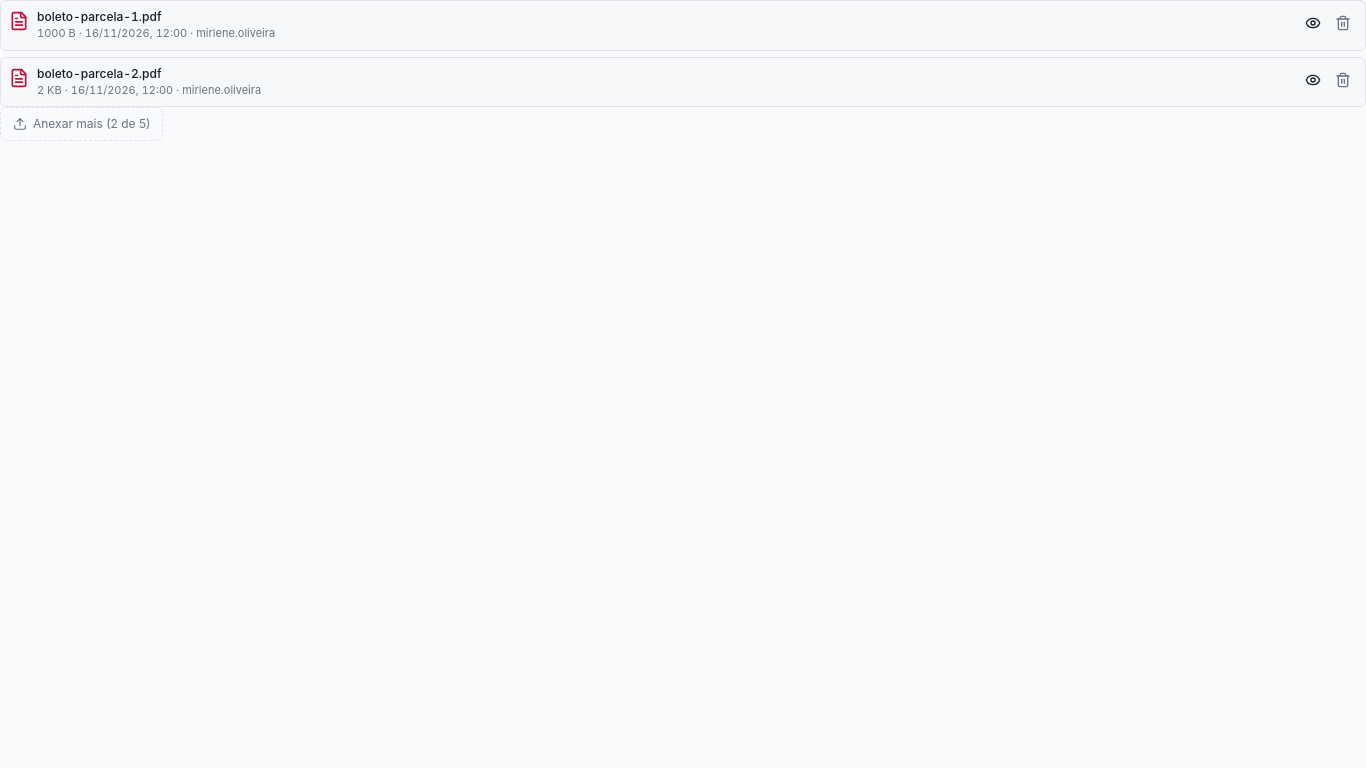
Test: anexos — vários arquivos por etapa (NFE-19) › remover pede confirmação e remove só aquele arquivo
The width and height of the screenshot is (1366, 768).
Later steps or results of the test are not shown.
Click the button named "Remover boleto-parcela-2.pdf": point(1343, 80) [1329, 66, 1357, 94]
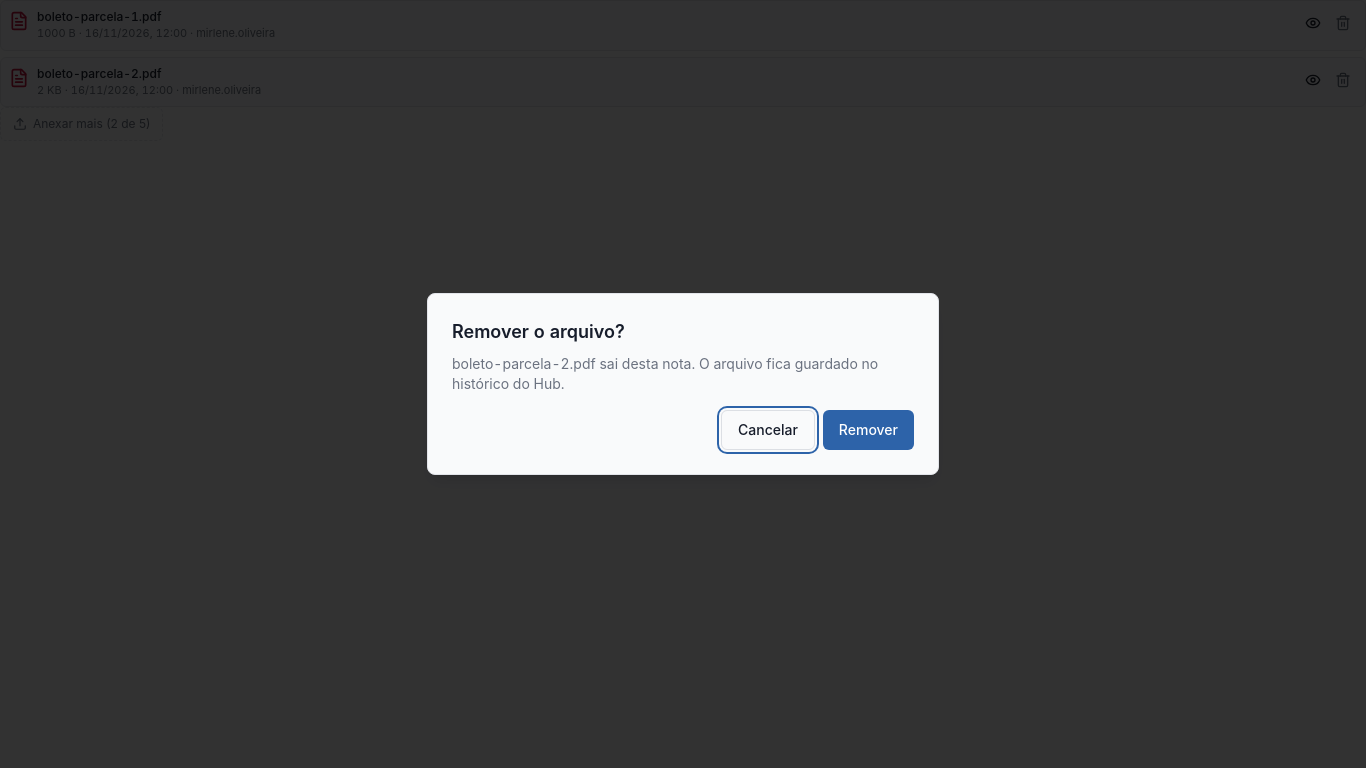
Expected: the text "boleto-parcela-2.pdf sai desta nota" is shown, [452, 354, 914, 394]
